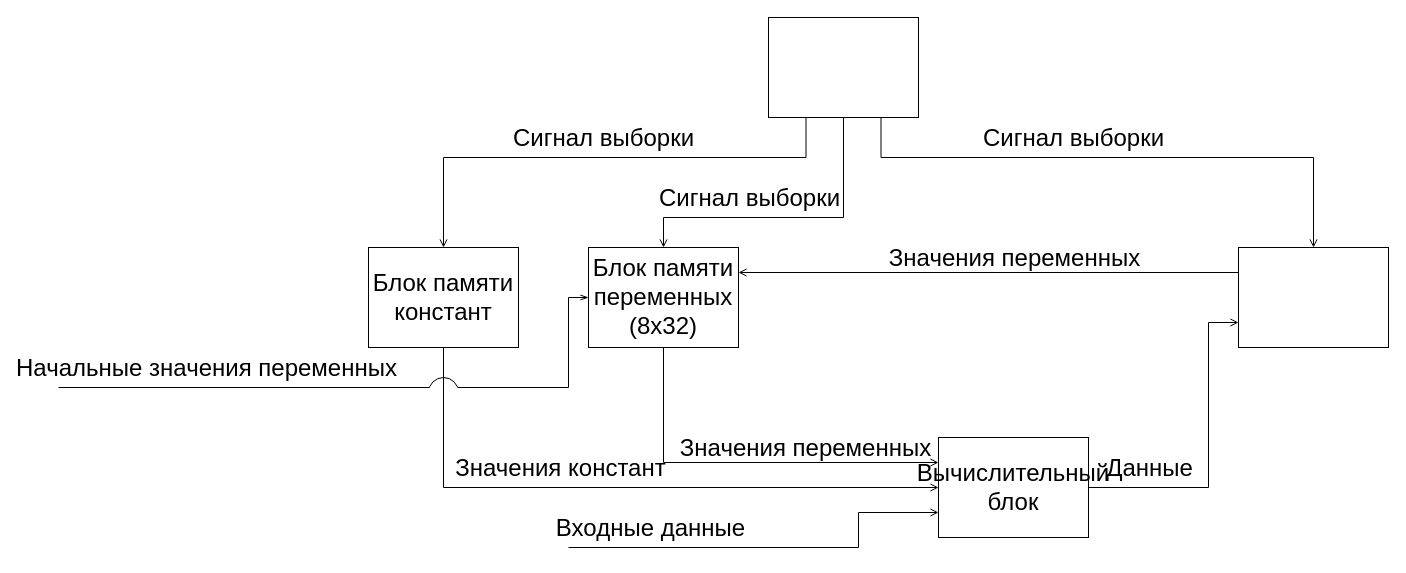
Image size: 1406x573. Some labels were removed from this diagram. Here are the shapes that lost their labels. From the top down, the centre of each, then its label:
At (843,67): "Блок управления".
At (1313,297): "Выходной буфер (8х32)".
